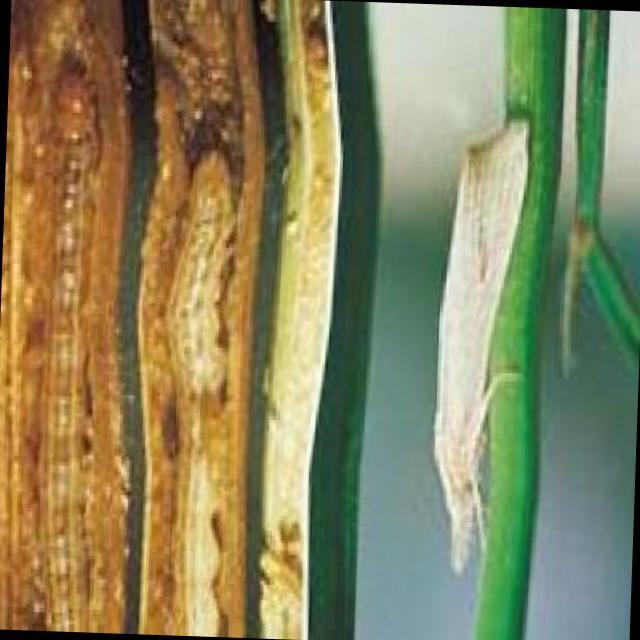stem-borer: (424, 107, 540, 584)
